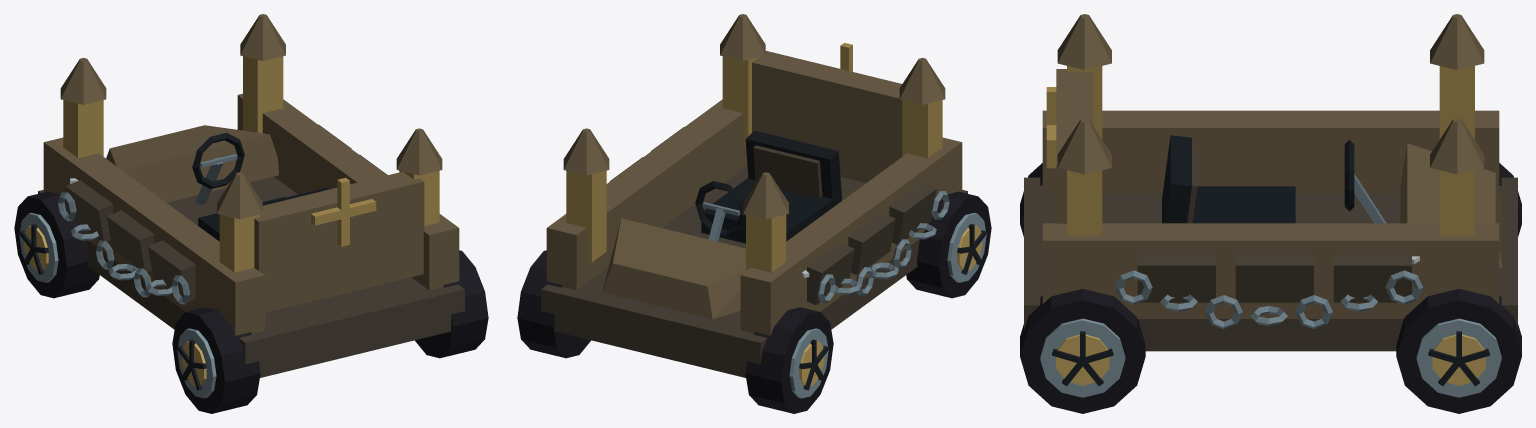
The model's file is kart.glb.
The picture shows the model from 3 angles, left to right: view 1: azimuth 30°, elevation 25°; view 2: azimuth 150°, elevation 25°; view 3: azimuth 270°, elevation 25°; orthographic projection. The views are drawn at different scales.
Visible parts, largest first — view 1: identity-reliquary-reliquary-arched-stone-chest, wheel-rear-left, wheel-front-left, identity-reliquary-motif-armor, wheel-rear-right, identity-reliquary-motif-chains, identity-reliquary-driver-cockpit; view 2: identity-reliquary-reliquary-arched-stone-chest, identity-reliquary-driver-cockpit, wheel-front-left, wheel-rear-left, identity-reliquary-motif-armor, wheel-front-right, identity-reliquary-motif-chains; view 3: identity-reliquary-reliquary-arched-stone-chest, wheel-front-right, wheel-rear-right, identity-reliquary-motif-armor, identity-reliquary-driver-cockpit, identity-reliquary-motif-chains.
Boxes of the visible parts, x1,y1,x2,y2 form: identity-reliquary-reliquary-arched-stone-chest: (38,14,464,377); wheel-rear-left: (172,307,260,413); wheel-front-left: (14,191,99,298); identity-reliquary-motif-armor: (65,124,387,302); wheel-rear-right: (415,250,488,358); identity-reliquary-motif-chains: (58,192,189,304); identity-reliquary-driver-cockpit: (192,132,329,241); identity-reliquary-reliquary-arched-stone-chest: (541,14,967,377); identity-reliquary-driver-cockpit: (695,130,841,243); wheel-front-left: (745,307,833,413); wheel-rear-left: (906,191,991,298); identity-reliquary-motif-armor: (610,127,936,305); wheel-front-right: (517,250,590,358); identity-reliquary-motif-chains: (817,191,949,302); identity-reliquary-reliquary-arched-stone-chest: (1024,14,1517,351); wheel-front-right: (1396,288,1521,413); wheel-rear-right: (1020,288,1145,413); identity-reliquary-motif-armor: (1137,254,1411,302); identity-reliquary-driver-cockpit: (1162,135,1386,223); identity-reliquary-motif-chains: (1115,270,1423,329).
Bounding box in the file's own units: 1.99 × 1.51 × 2.56.
